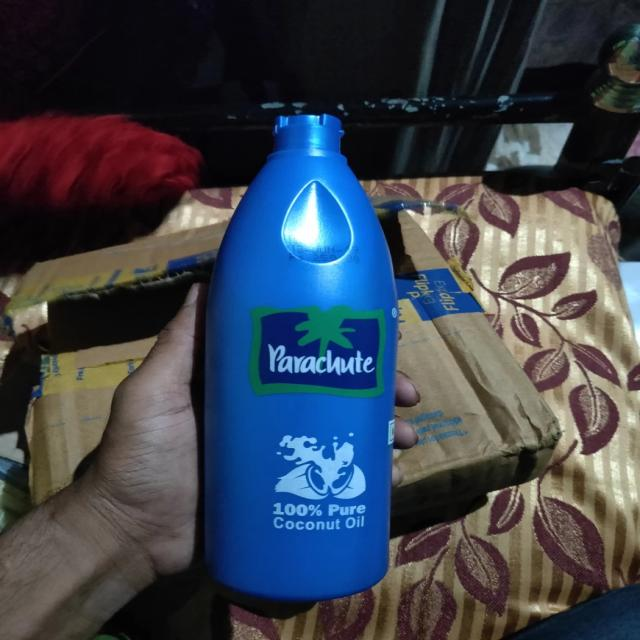parachute_oil: (199, 95, 409, 606)
